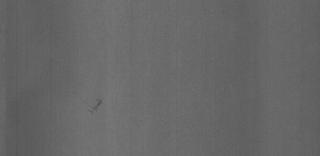water spot: (84, 89, 106, 119)
